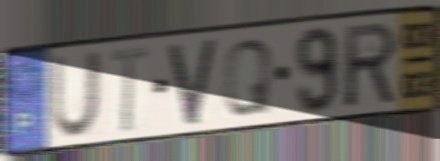9: (292, 23, 341, 117)
Q: (221, 36, 275, 118)
R: (342, 19, 400, 111)
T: (109, 43, 151, 136)
U: (48, 48, 103, 140)
V: (166, 35, 220, 129)
